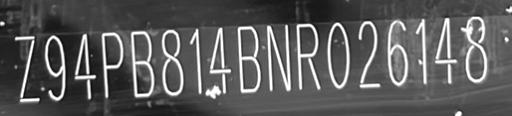letter: (68, 32, 100, 98), (264, 22, 292, 90), (462, 16, 490, 83), (294, 23, 322, 89), (128, 30, 156, 96), (356, 18, 382, 88), (326, 21, 352, 89), (235, 25, 261, 93), (13, 34, 39, 102), (42, 34, 68, 100), (386, 18, 410, 86), (208, 27, 232, 95), (100, 31, 124, 99), (434, 17, 458, 84), (160, 29, 184, 95), (186, 26, 208, 94), (414, 17, 430, 83)
